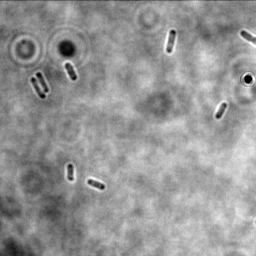Rod: (29, 76, 47, 99), (34, 71, 51, 93), (164, 28, 178, 54), (63, 61, 79, 81), (86, 177, 106, 191), (214, 101, 229, 119), (65, 162, 76, 183)
